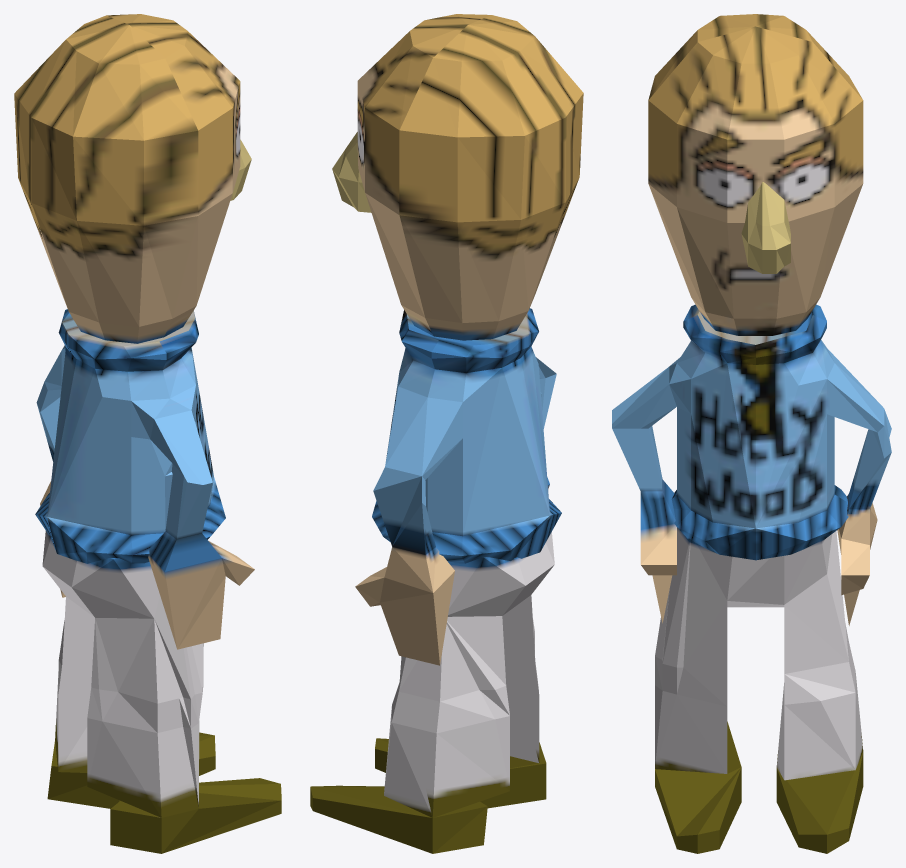
File: PipMenu.glb
The picture shows the model from 3 angles, left to right: view 1: azimuth 30°, elevation 25°; view 2: azimuth 150°, elevation 25°; view 3: azimuth 270°, elevation 25°; orthographic projection. The views are drawn at different scales.
Parts seen in each view (by area): view 1: PipMenu; view 2: PipMenu; view 3: PipMenu.
Part boxes in pixels (x1=…): PipMenu: x1=14, y1=14, x2=281, y2=853; PipMenu: x1=310, y1=14, x2=583, y2=853; PipMenu: x1=612, y1=14, x2=891, y2=853.
Bounding box in the file's own units: 34.24 × 116 × 37.9.
1 material, 1 textured.
